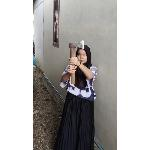Kapak: (66, 38, 87, 86)
